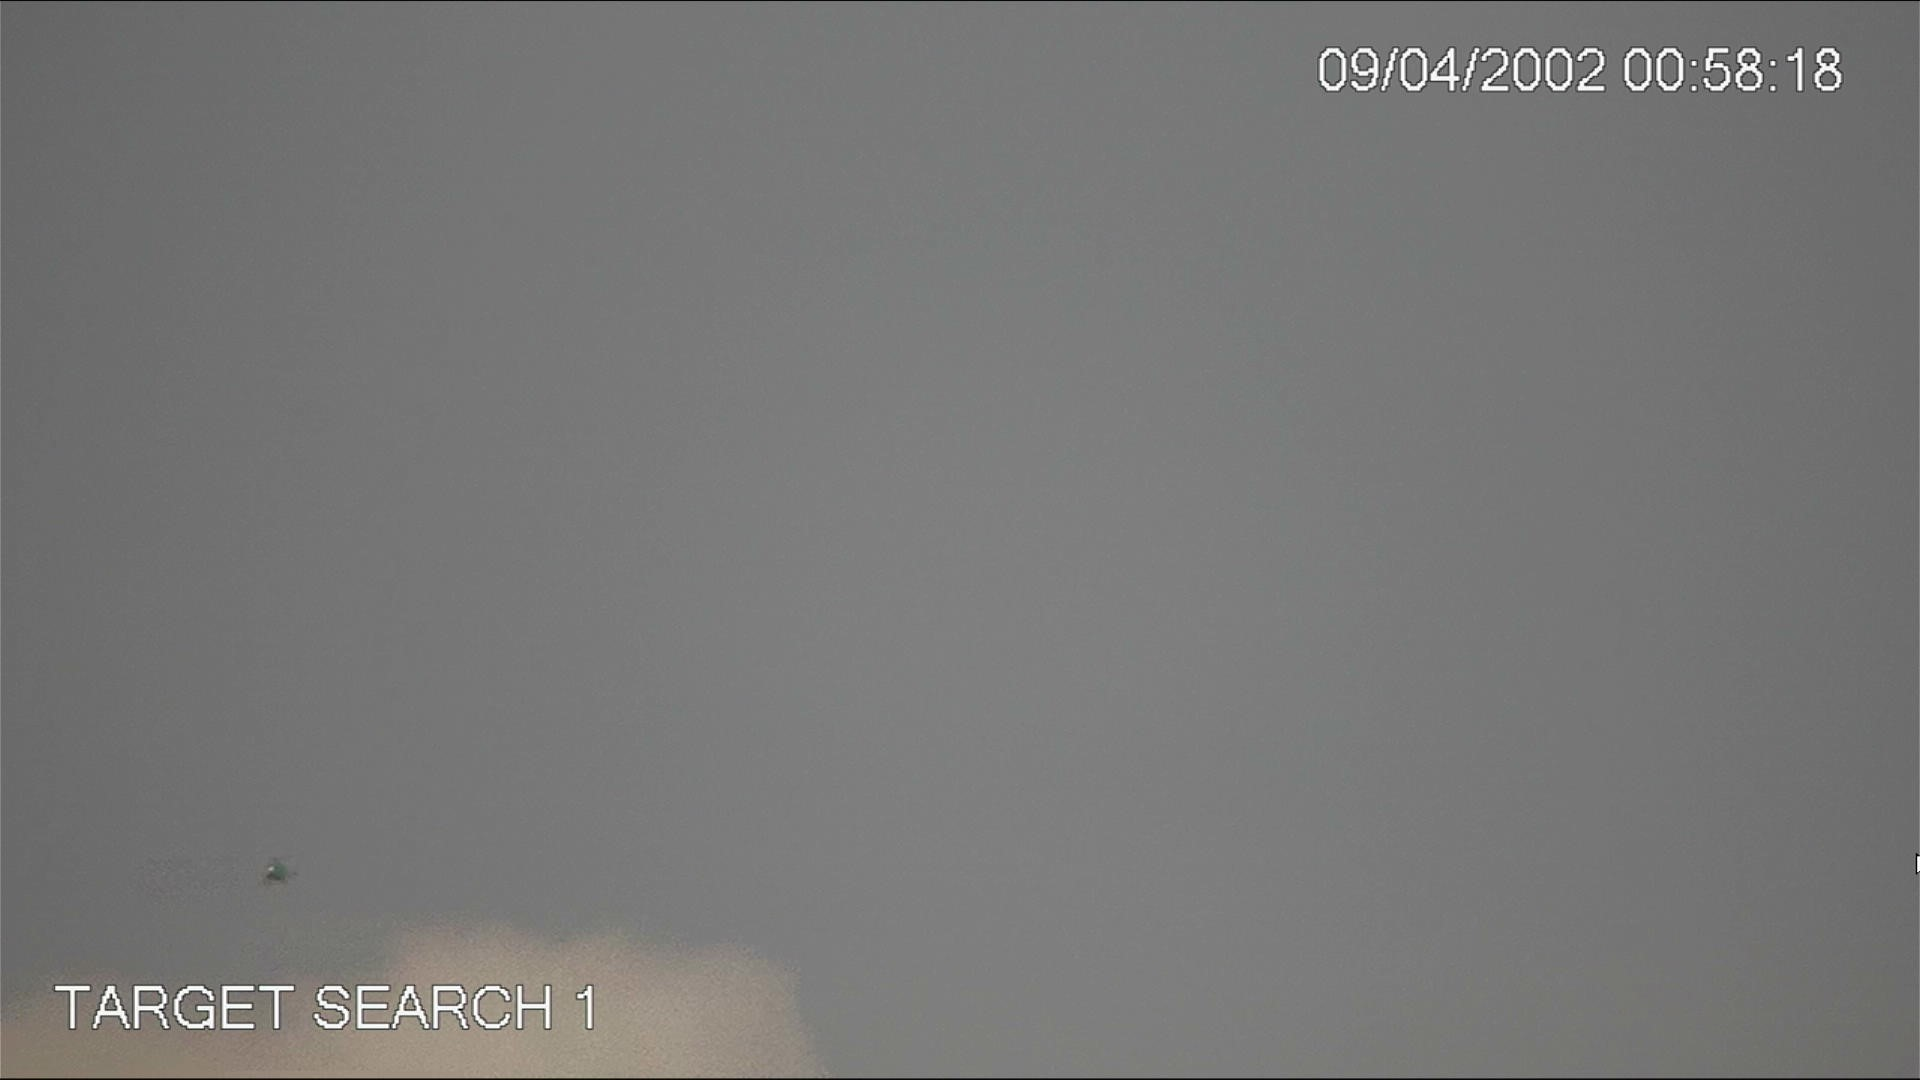SU_30: (256, 860, 298, 887)
